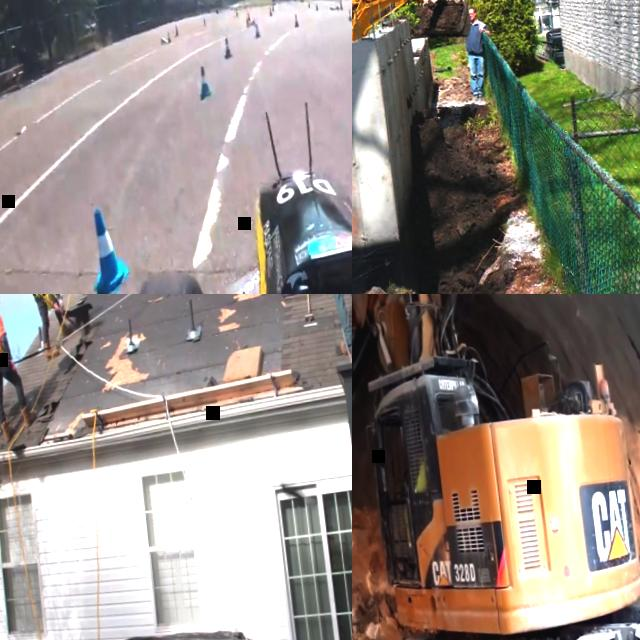NO-Hardhat: (467, 5, 477, 14)
NO-Mask: (469, 14, 478, 21)
NO-Safety Vest: (461, 20, 483, 54)
Person: (0, 294, 37, 442), (395, 434, 435, 544), (459, 3, 497, 96), (303, 294, 352, 361), (26, 294, 75, 359)
Safety Cone: (84, 198, 123, 292), (193, 64, 213, 96), (220, 32, 232, 68), (292, 10, 299, 28), (253, 23, 260, 38), (166, 31, 171, 47), (248, 17, 256, 26), (347, 8, 352, 22), (160, 35, 167, 44), (245, 15, 249, 28), (202, 16, 207, 26), (234, 8, 238, 18), (268, 7, 272, 16), (339, 0, 342, 10), (314, 2, 317, 10), (307, 1, 310, 8), (271, 5, 273, 12)
Safety Vest: (411, 456, 429, 492), (28, 294, 60, 307)
vehicle: (352, 294, 640, 640), (112, 144, 352, 294), (352, 0, 473, 51)
